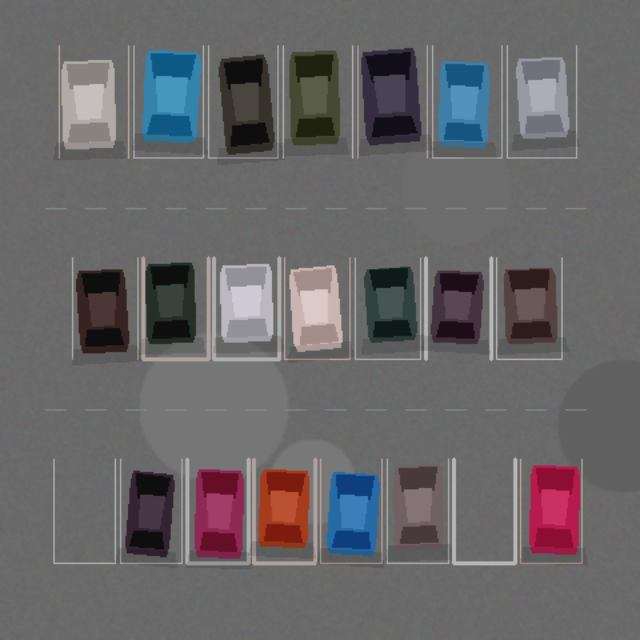space-empty: (53, 459, 115, 563), (453, 459, 515, 563)
space-occupied: (133, 45, 203, 157), (357, 45, 427, 157), (59, 45, 128, 157), (208, 45, 277, 157), (283, 45, 352, 157), (432, 45, 501, 157), (507, 45, 576, 157), (213, 257, 279, 359), (425, 257, 491, 359), (72, 257, 137, 359), (143, 257, 208, 359), (284, 257, 349, 359), (355, 257, 420, 359), (496, 257, 561, 359), (253, 459, 315, 563), (120, 459, 181, 563), (187, 459, 248, 563), (320, 459, 381, 563), (387, 459, 448, 563), (520, 459, 581, 563)
